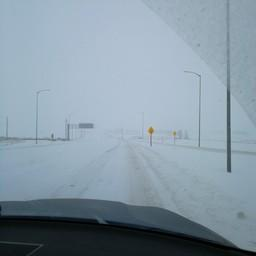Snow: (0, 138, 255, 252)
